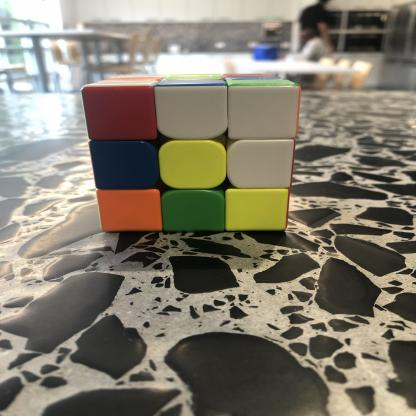UnsolvedCube: (79, 69, 310, 237)
